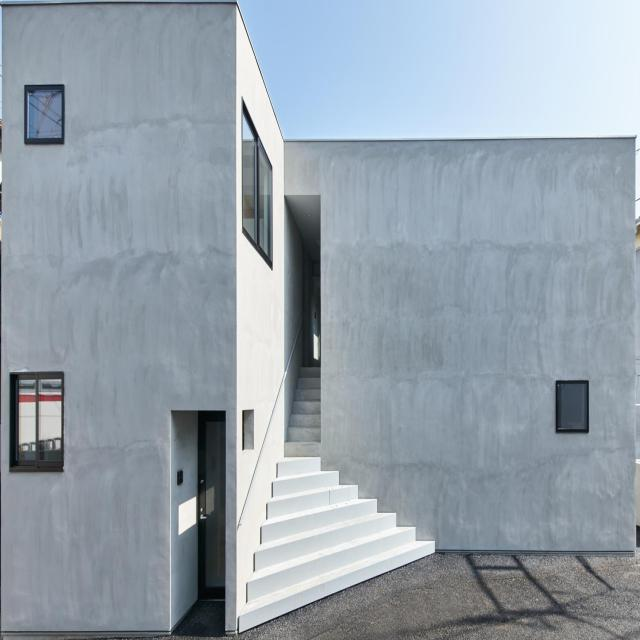door: (197, 410, 227, 603)
wall: (0, 2, 638, 638)
windows: (8, 369, 64, 472), (242, 95, 273, 271), (24, 80, 64, 140), (556, 379, 589, 435)
